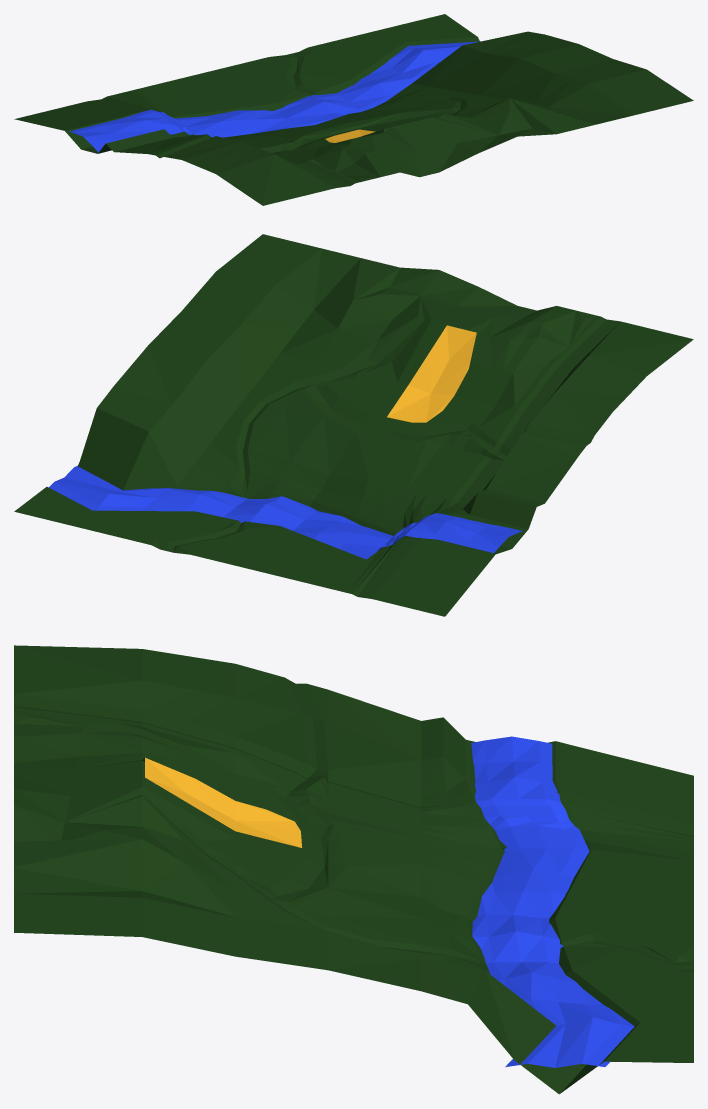
Rendered from TerrainBase_low.FBX.
3 views of the same model, one above another, from view 1: azimuth 30°, elevation 25°; view 2: azimuth 150°, elevation 25°; view 3: azimuth 270°, elevation 25° (orthographic). The views are drawn at different scales.
Visible parts, largest first — view 1: Plane001; view 2: Plane001; view 3: Plane001.
Boxes of the visible parts, x1,y1,x2,y2 form: Plane001: (14,14,693,205); Plane001: (14,234,693,616); Plane001: (14,645,693,1094).
Bounding box in the file's own units: 47.41 × 13.18 × 47.33.
